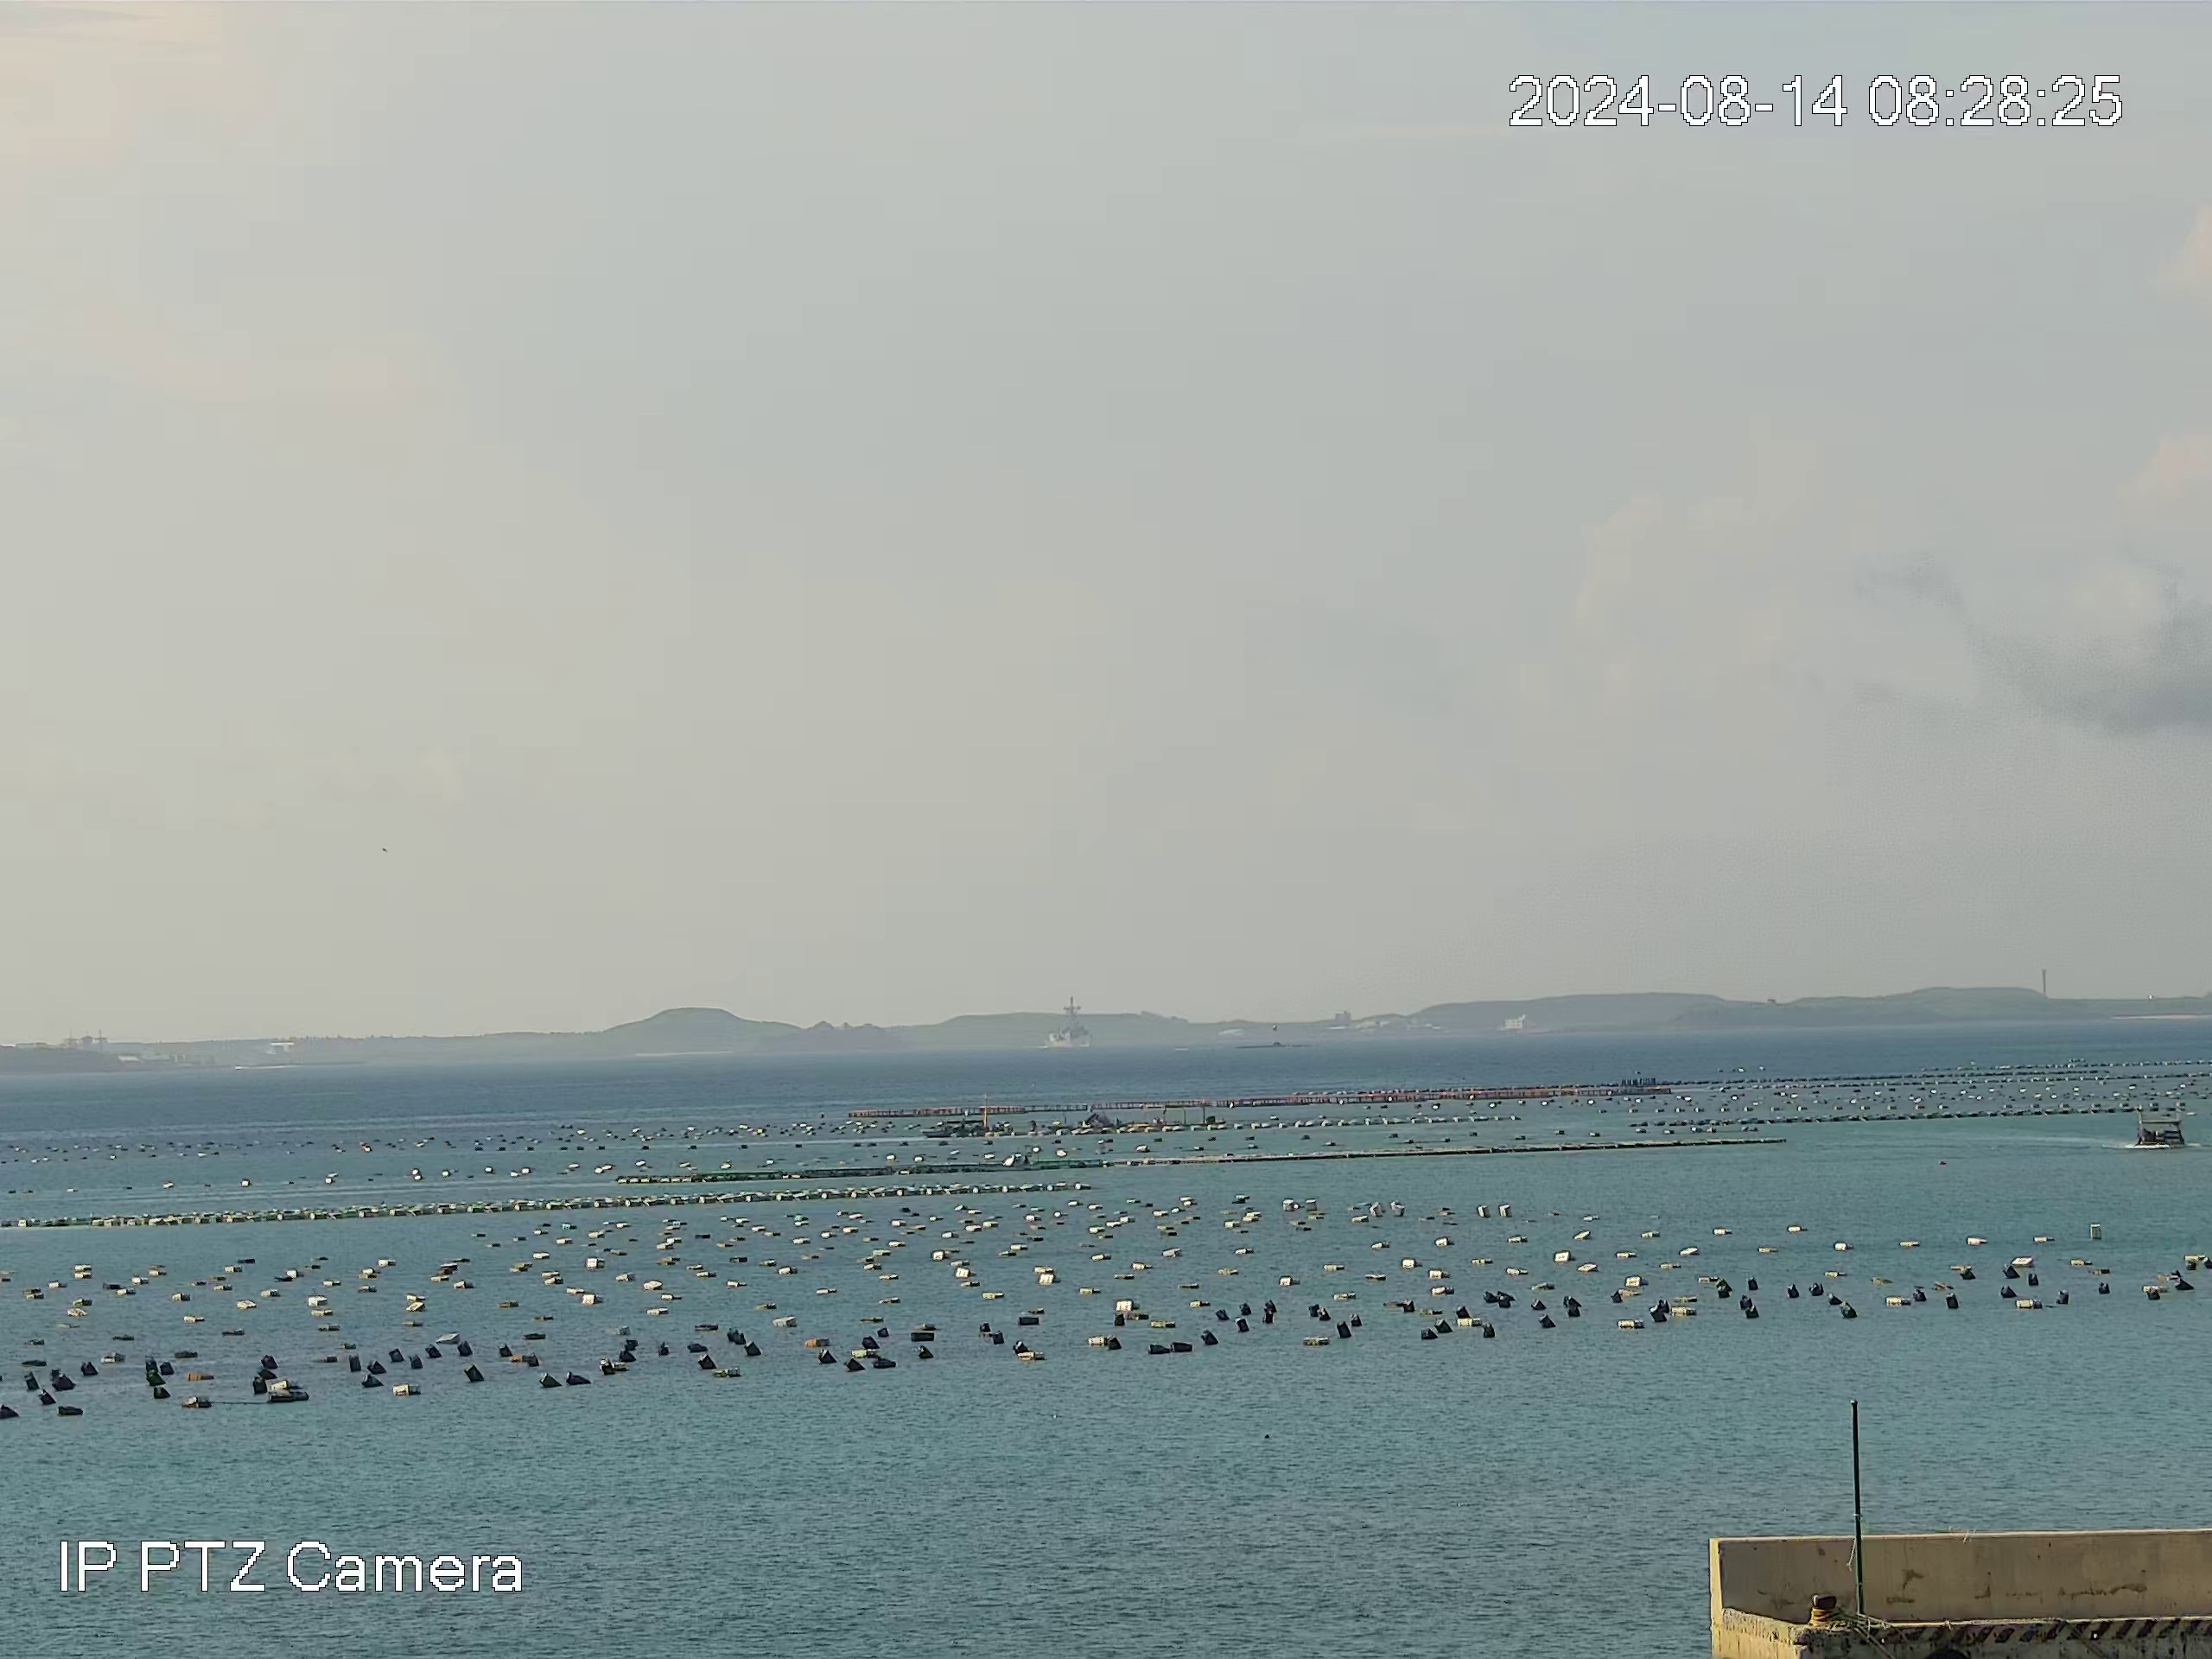boat: (2135, 1112, 2191, 1147), (923, 1121, 991, 1140)
